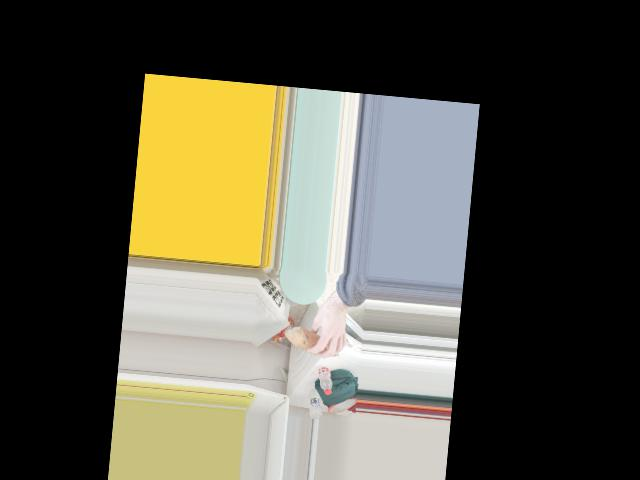sweet_potato: (285, 327, 344, 358)
